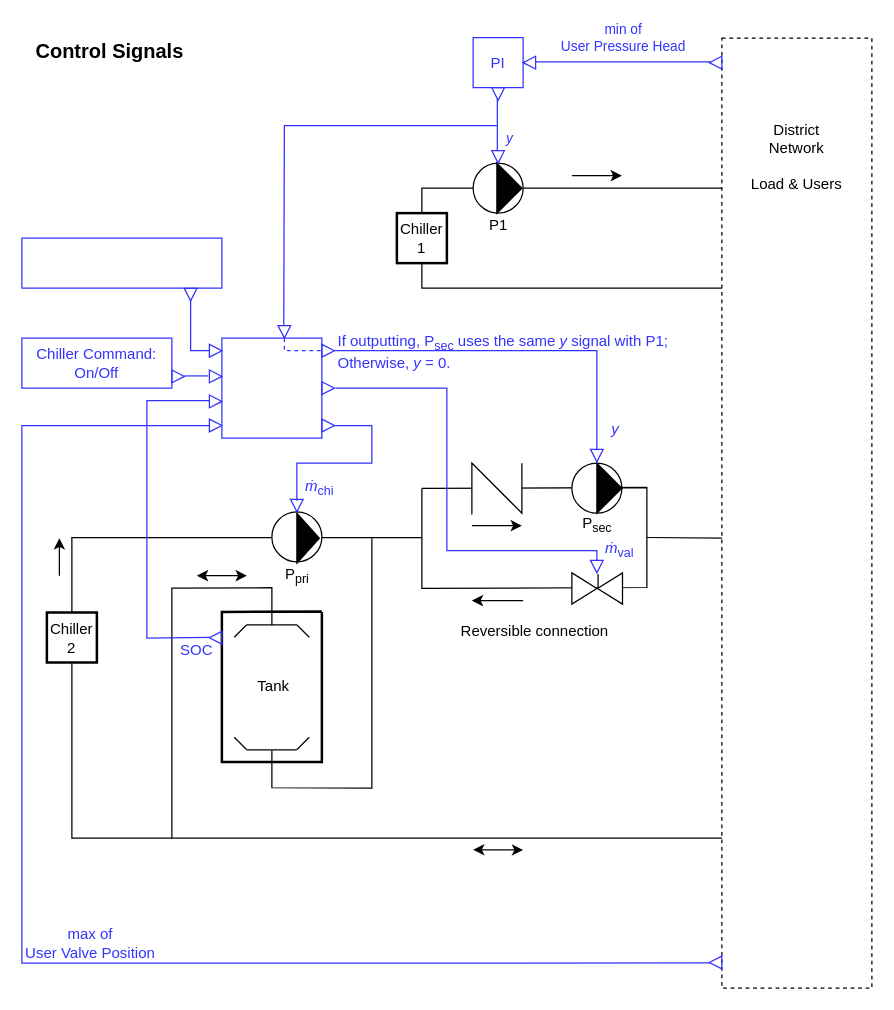
This 894x1010 diagram has some shape labels left out. The centre of each missing label's shape, as x and y in pixels:
Flow Control: [271,387]
Tank Command: Charge/Discharge/Hold: [121,262]
